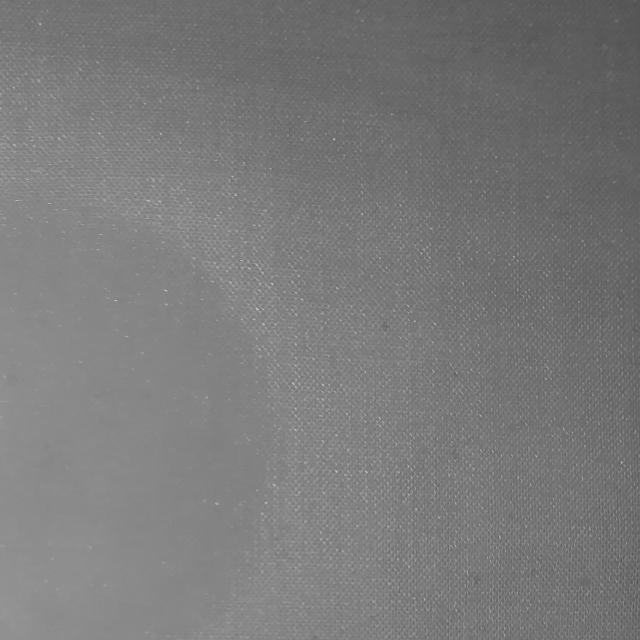Stain: (1, 195, 264, 640)
